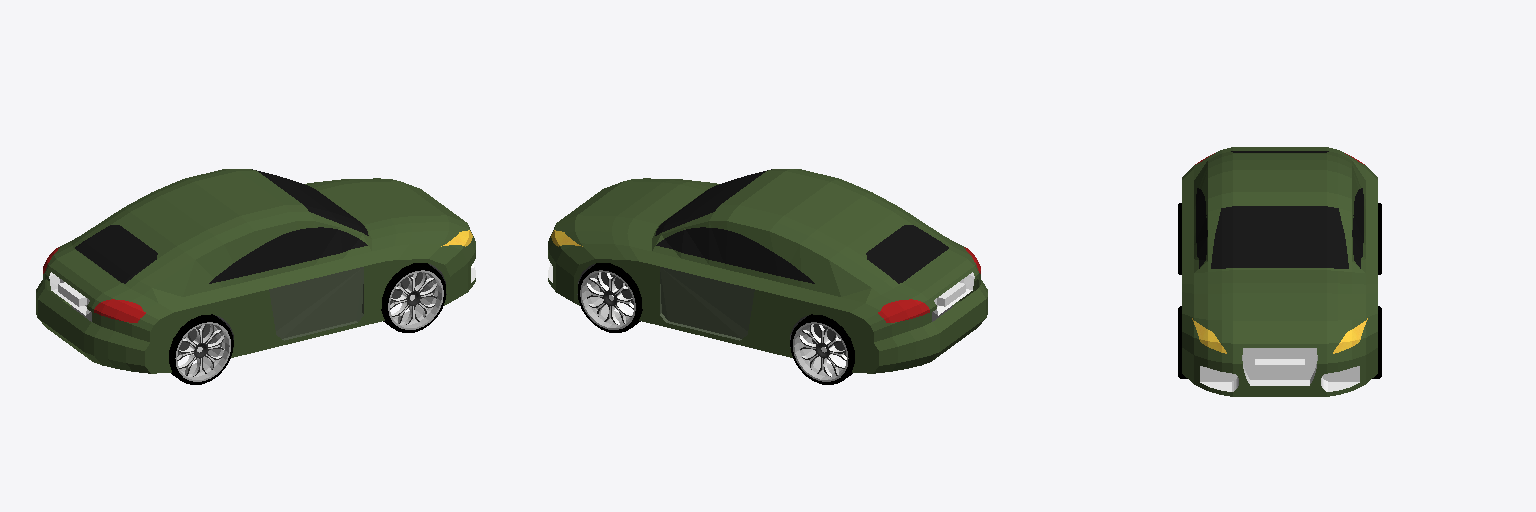
3 views of the same model, side by side, from view 1: azimuth 30°, elevation 25°; view 2: azimuth 150°, elevation 25°; view 3: azimuth 270°, elevation 25° (orthographic).
Visible parts, largest first — view 1: Mesh9 Model, Mesh4 Component_7_2 Wheel2 Model, Mesh2 Component_7_1 Wheel1 Model, Mesh3 Component_2_2 Component_7_2 Wheel2 Model, Mesh1 Component_2_1 Component_7_1 Wheel1 Model; view 2: Mesh9 Model, Mesh6 Component_7_3 Wheel3 Model, Mesh8 Component_7_4 Wheel4 Model, Mesh5 Component_2_3 Component_7_3 Wheel3 Model, Mesh7 Component_2_4 Component_7_4 Wheel4 Model; view 3: Mesh9 Model.
Part boxes in pixels (bbox=[...]): Mesh9 Model: bbox=[36, 169, 475, 373]; Mesh4 Component_7_2 Wheel2 Model: bbox=[169, 314, 233, 384]; Mesh2 Component_7_1 Wheel1 Model: bbox=[381, 263, 445, 332]; Mesh3 Component_2_2 Component_7_2 Wheel2 Model: bbox=[177, 324, 224, 376]; Mesh1 Component_2_1 Component_7_1 Wheel1 Model: bbox=[390, 272, 436, 324]; Mesh9 Model: bbox=[548, 169, 987, 373]; Mesh6 Component_7_3 Wheel3 Model: bbox=[790, 314, 854, 384]; Mesh8 Component_7_4 Wheel4 Model: bbox=[578, 263, 642, 332]; Mesh5 Component_2_3 Component_7_3 Wheel3 Model: bbox=[799, 324, 846, 376]; Mesh7 Component_2_4 Component_7_4 Wheel4 Model: bbox=[587, 272, 633, 324]; Mesh9 Model: bbox=[1182, 147, 1377, 396].
Bounding box in the file's own units: 0.8732 × 0.2852 × 0.3952.
10 materials, 1 textured.